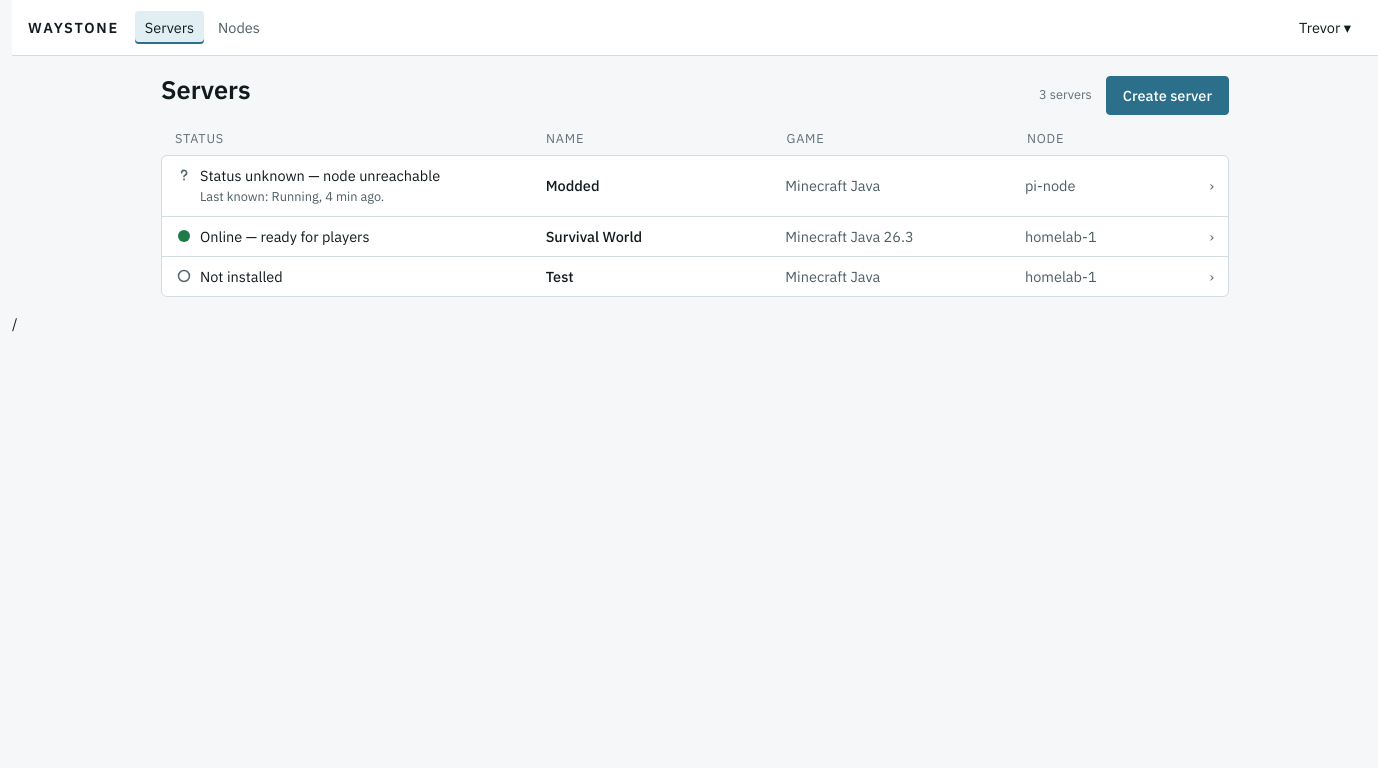
Test case: create server (D9) › the server list links to the form, and an empty list says what to do
The image size is (1378, 768).
Click the link "Create server" at (1167, 95), box x1=1106 y1=76 x2=1229 y2=115
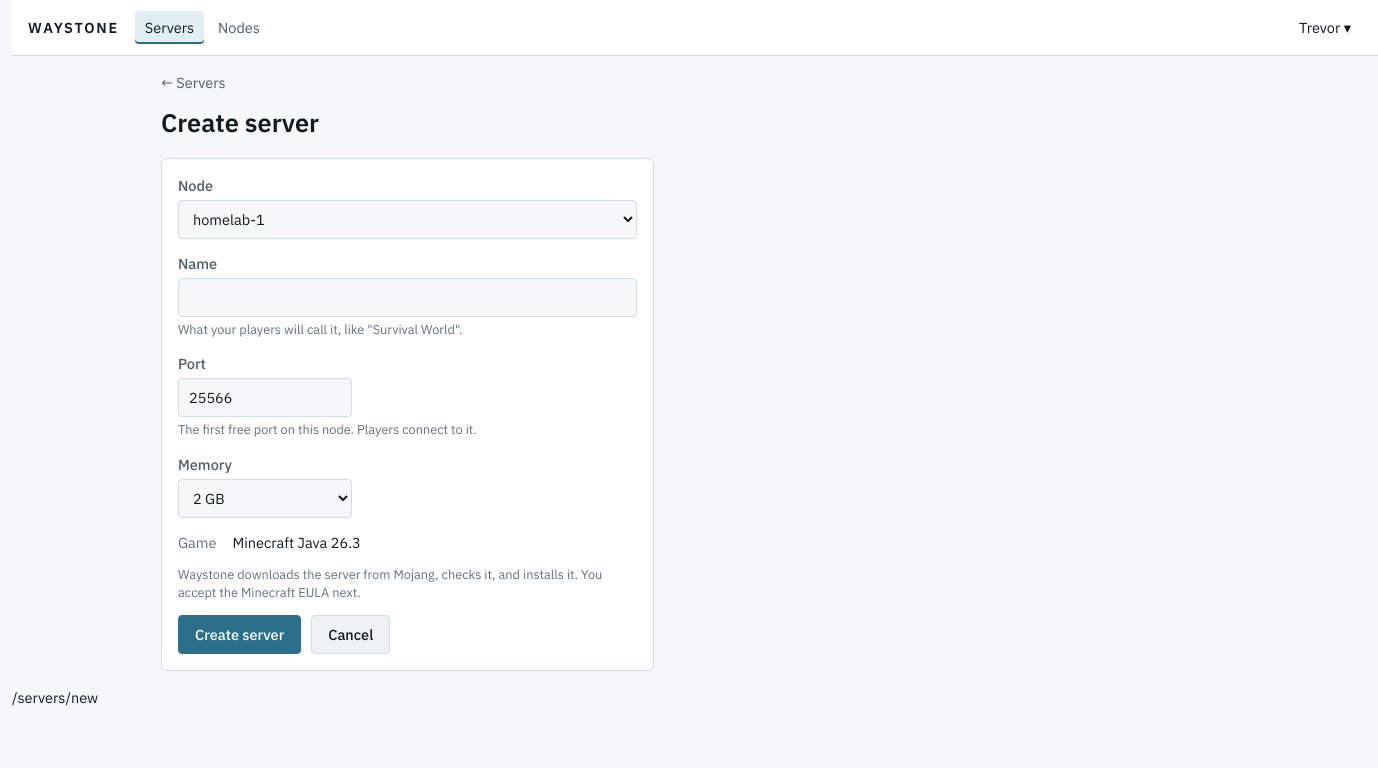
Expected: the text with test id "where" reads "/servers/new", x1=12 y1=688 x2=98 y2=707
Expected: the heading "Create server" is shown, x1=161 y1=106 x2=319 y2=139
